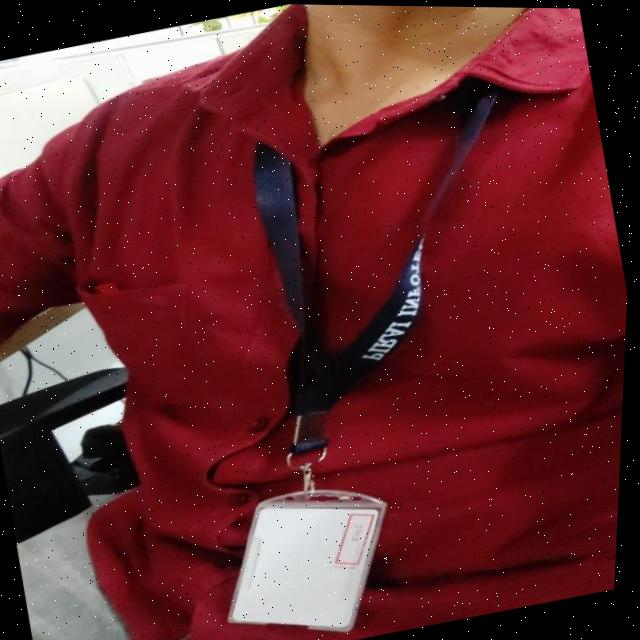id_card: (123, 59, 609, 640)
